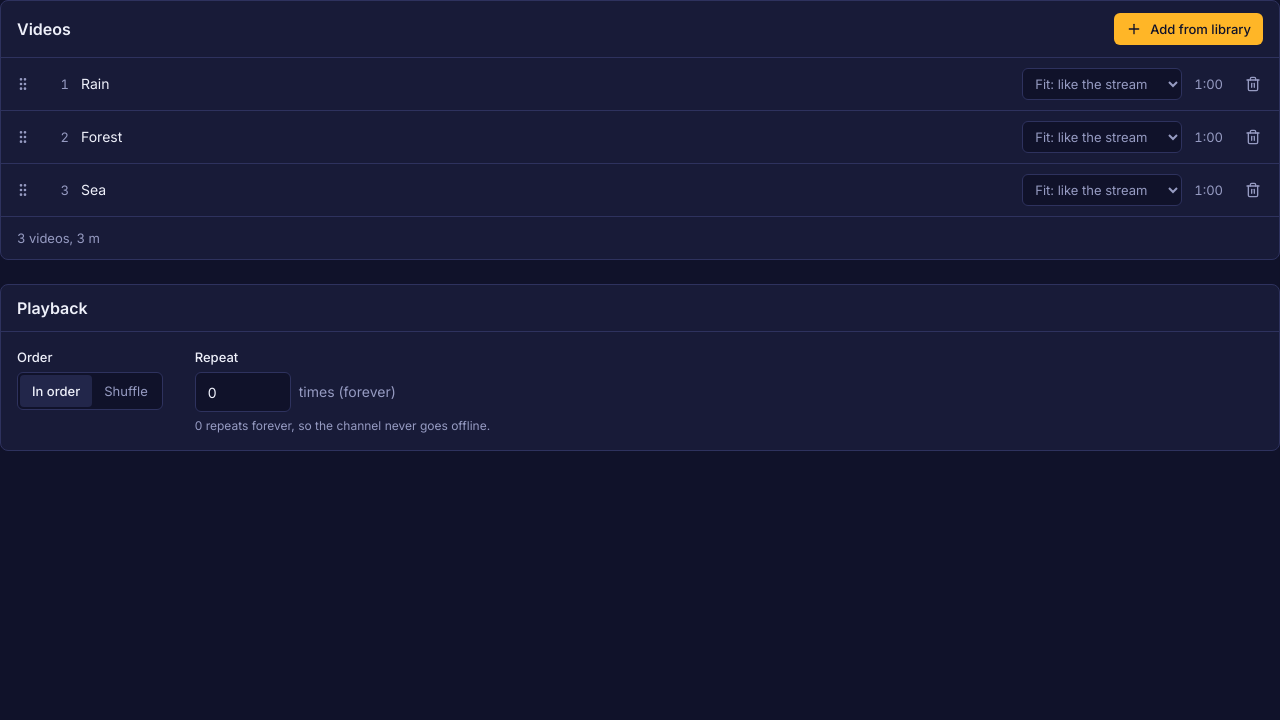
Scenario: playlist edits (UX audit #9, #16) › saves a removal at once, like an addition, so "Remove" is never only pretend
Click the button named "Remove Forest".
click(1253, 137)  # box top-left (1235, 119), bottom-right (1271, 155)
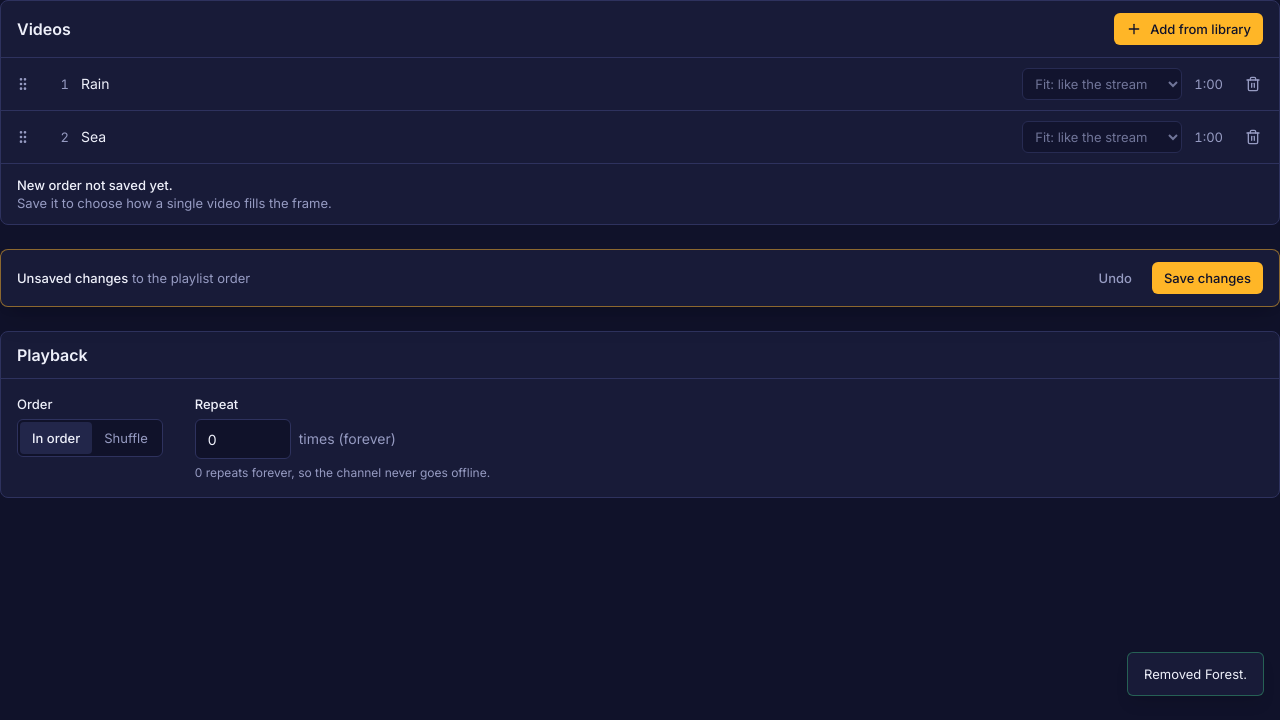
Now the text "Removed Forest." is shown, box top-left (1127, 652), bottom-right (1264, 696)
